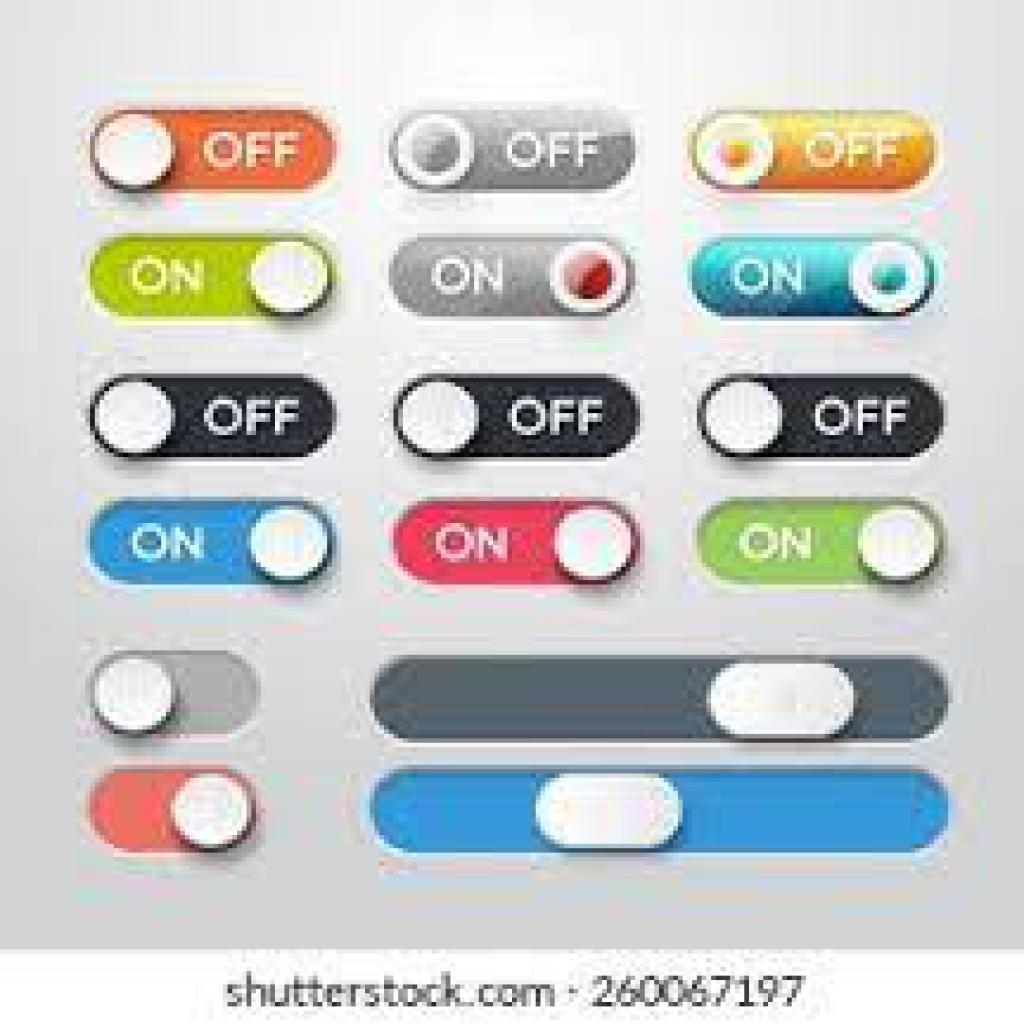slider: (369, 765, 951, 856), (369, 656, 951, 746)
switch: (697, 496, 946, 588), (392, 498, 643, 588), (394, 372, 644, 462), (89, 233, 338, 323), (690, 111, 944, 199), (389, 109, 636, 199), (697, 375, 948, 463), (86, 499, 337, 587), (391, 234, 636, 323), (90, 378, 339, 463), (687, 237, 937, 321), (90, 108, 338, 192), (90, 651, 265, 742), (87, 768, 257, 853)
